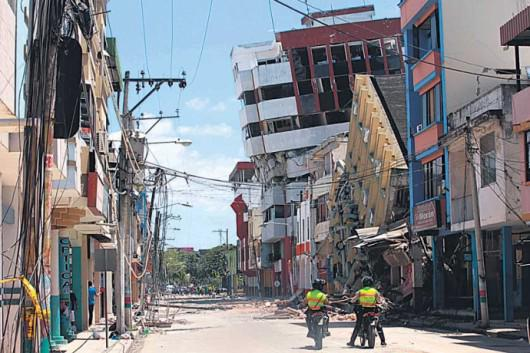destroyed: (226, 15, 413, 297)
